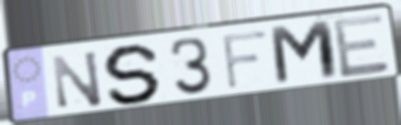3: (167, 36, 216, 98)
E: (330, 11, 393, 81)
F: (219, 27, 271, 93)
M: (266, 17, 343, 89)
N: (48, 48, 105, 111)
S: (101, 42, 165, 106)
